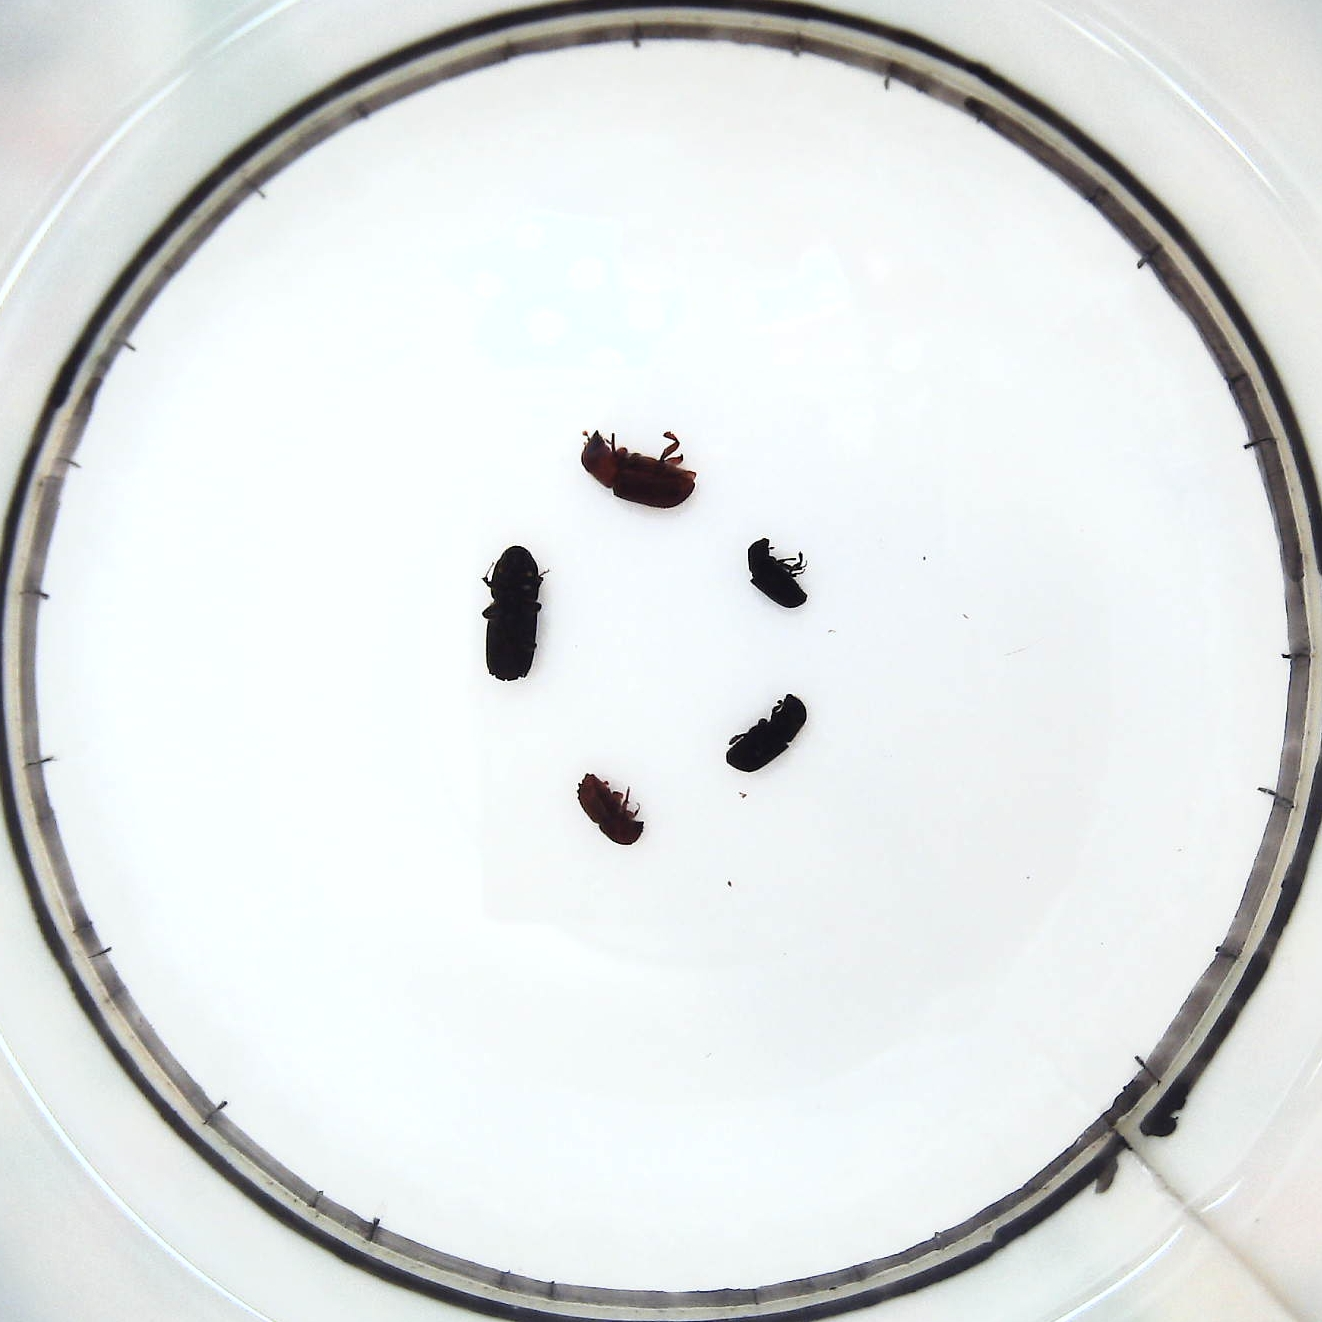Boerner: (479, 539, 548, 688)
Leconte: (573, 423, 700, 515)
armandi: (722, 690, 815, 776)
coleoptera: (745, 529, 817, 615)
linnaeus: (576, 768, 649, 851)
